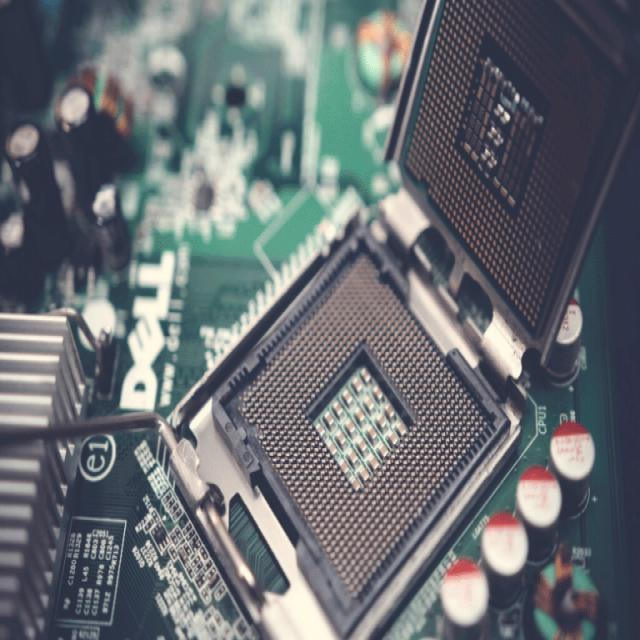hazard: (0, 0, 636, 608)
